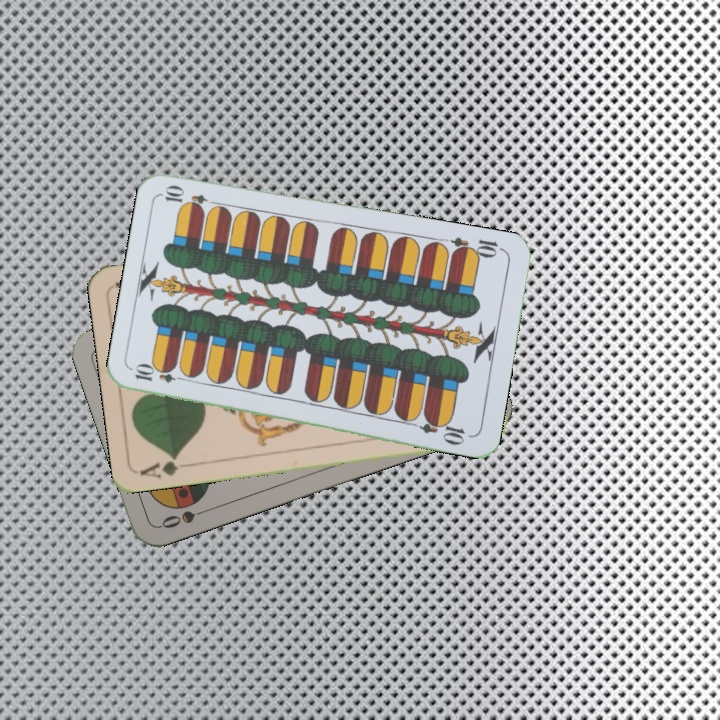E10: (448, 233, 506, 261), (131, 363, 190, 386)
GA: (136, 451, 195, 481)
SO: (156, 503, 214, 531)
